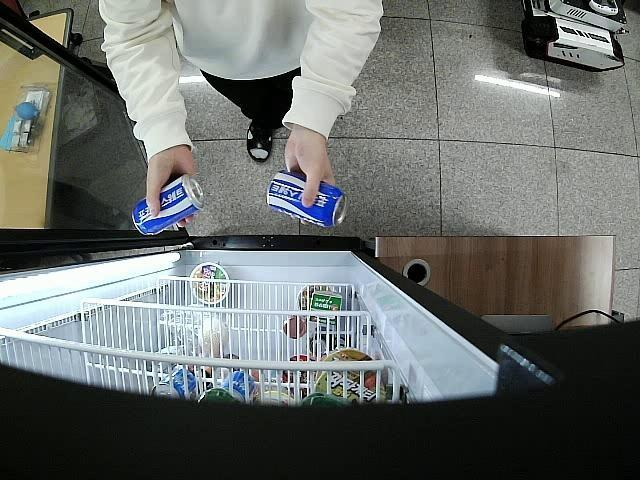13_pocariSweat: (264, 168, 350, 228), (132, 174, 206, 234)
